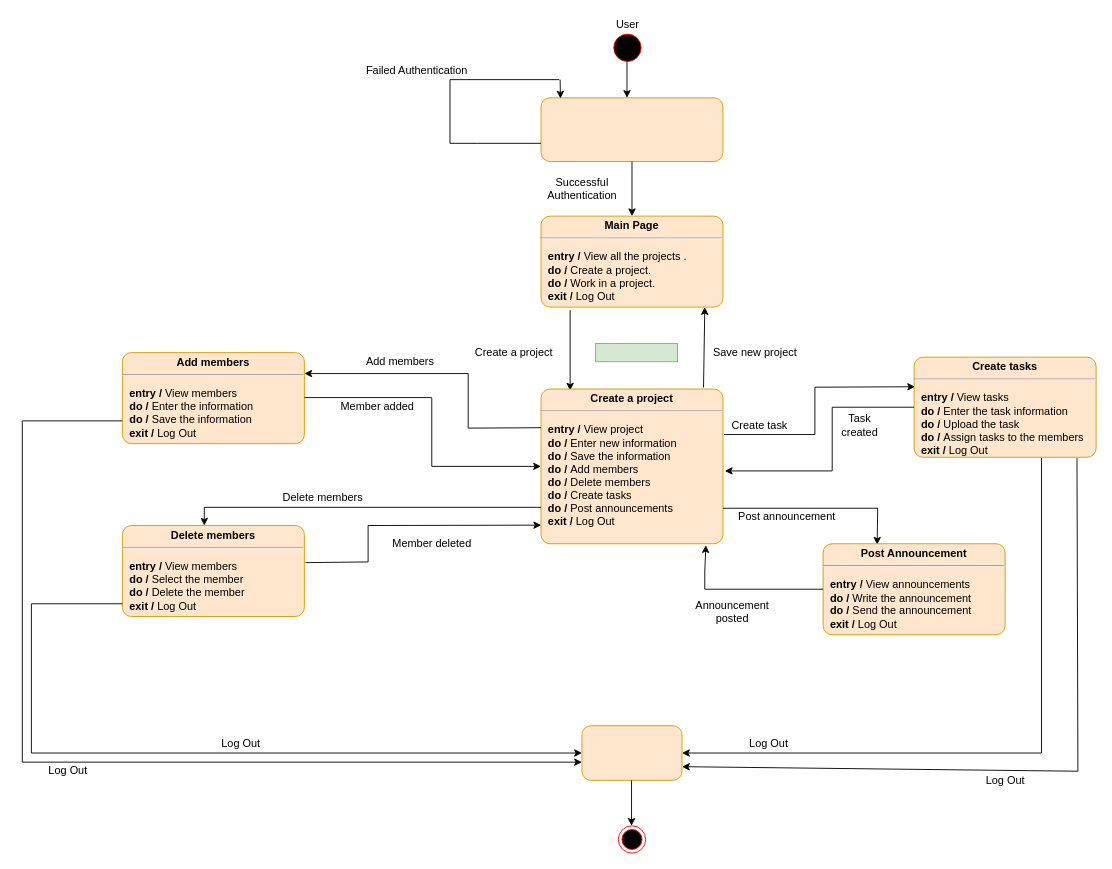
Image size: 1112x869. Some labels were removed from this diagram. The shapes that lost their labels are listed below. From the top down, each one's box as (x1, y1, x2, y2) in pixels, then its label:
(540, 97, 723, 162): Log In entry / Enter Credentials exit / Authentication Successful
(595, 343, 677, 362): Team Leader
(581, 725, 682, 780): Log Out exit / Logged Out
